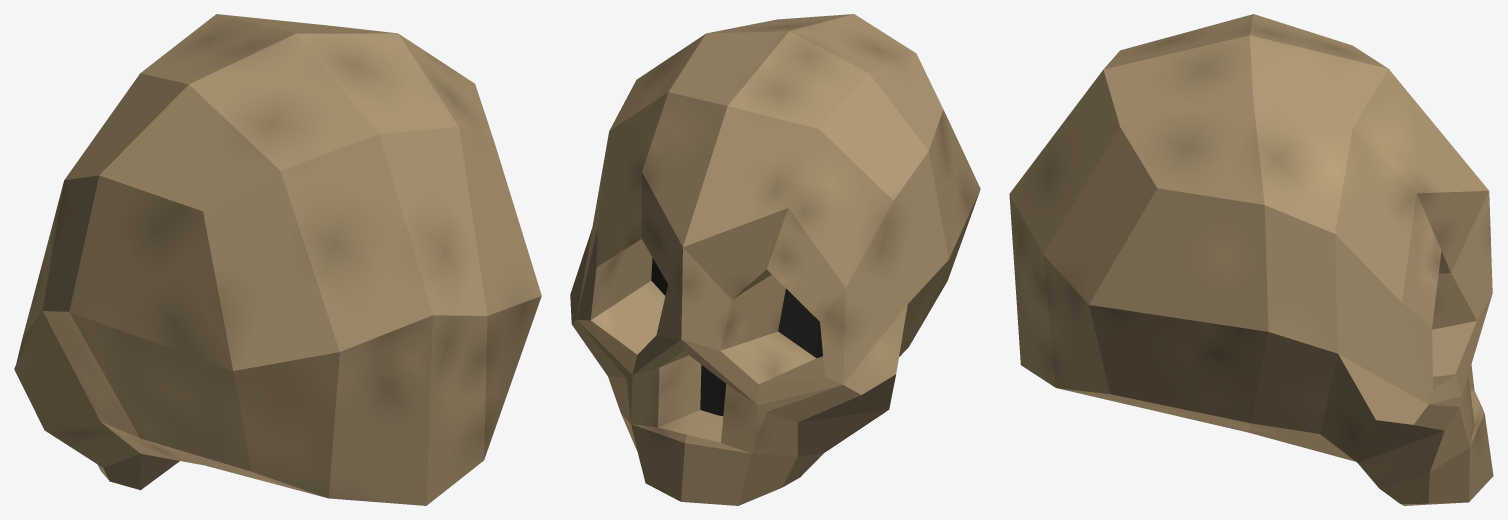
Rendered from Scull_Human.fbx.
3 renders of one model, left to right at view 1: azimuth 30°, elevation 25°; view 2: azimuth 150°, elevation 25°; view 3: azimuth 270°, elevation 25°, orthographic. The views are drawn at different scales.
Visible parts, largest first — view 1: Cube.017; view 2: Cube.017; view 3: Cube.017.
Part boxes in pixels (x1,y1,x2,y2): Cube.017: (14, 14, 541, 505); Cube.017: (570, 14, 980, 505); Cube.017: (1009, 14, 1493, 505).
Bounding box in the file's own units: 46.73 × 52.21 × 51.81.
